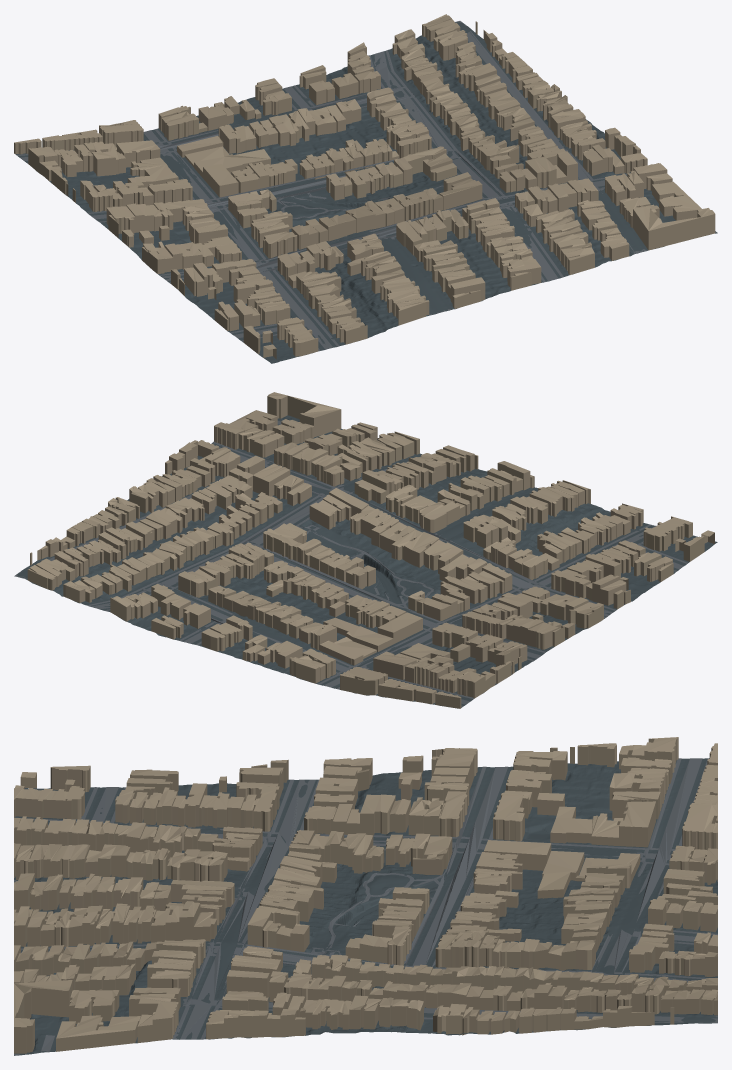
Rendered from epsg26910-1428-10885.lod0.glb.
3 renders of one model, top to bottom at view 1: azimuth 30°, elevation 25°; view 2: azimuth 150°, elevation 25°; view 3: azimuth 270°, elevation 25°, orthographic. The views are drawn at different scales.
Parts seen in each view (by area): view 1: epsg26910-1428-10885-lod0; view 2: epsg26910-1428-10885-lod0; view 3: epsg26910-1428-10885-lod0.
Boxes of the visible parts, x1=… form: epsg26910-1428-10885-lod0: x1=14, y1=14, x2=717, y2=363; epsg26910-1428-10885-lod0: x1=14, y1=392, x2=717, y2=708; epsg26910-1428-10885-lod0: x1=14, y1=737, x2=717, y2=1055.
Size of the model in its own units: 384 by 47.02 by 384.
